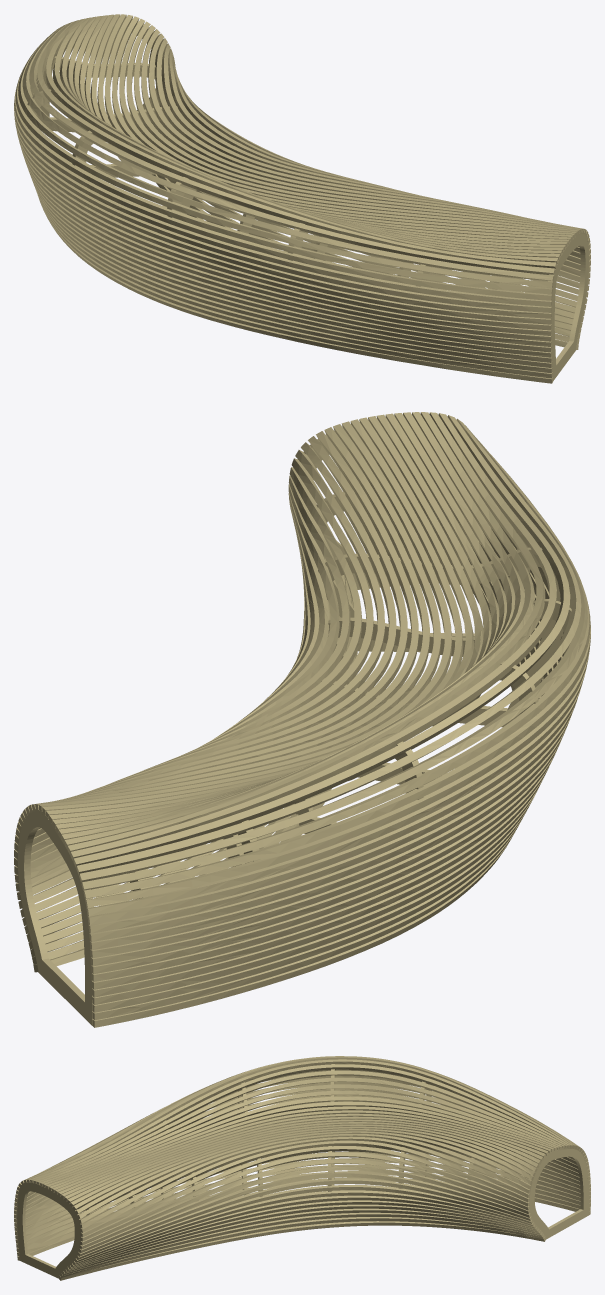
The model's file is lath-bench-parts.glb.
3 views of the same model, one above another, from view 1: azimuth 30°, elevation 25°; view 2: azimuth 150°, elevation 25°; view 3: azimuth 270°, elevation 25° (orthographic). The views are drawn at different scales.
Parts seen in each view (by area): view 1: slat_39, slat_40, slat_38, slat_42, slat_43, slat_41, slat_44, slat_45, slat_37, slat_46, slat_47, slat_48 (+36 smaller); view 2: slat_38, slat_37, slat_39, slat_40, slat_36, slat_41, slat_42, slat_43, slat_44, slat_25, slat_24, rib_08 (+37 smaller); view 3: slat_35, slat_36, slat_34, slat_16, slat_15, slat_33, slat_14, slat_17, slat_11, slat_32, slat_12, slat_13 (+43 smaller).
Boxes of the visible parts, bbox=[...] form: slat_39: bbox=[22, 26, 555, 274]; slat_40: bbox=[18, 31, 554, 281]; slat_38: bbox=[29, 23, 556, 268]; slat_42: bbox=[14, 86, 552, 294]; slat_43: bbox=[14, 96, 552, 300]; slat_41: bbox=[15, 63, 553, 287]; slat_44: bbox=[14, 115, 551, 306]; slat_45: bbox=[15, 124, 551, 312]; slat_37: bbox=[37, 21, 558, 264]; slat_46: bbox=[17, 134, 551, 318]; slat_47: bbox=[19, 142, 551, 324]; slat_48: bbox=[21, 77, 551, 330]; slat_38: bbox=[73, 415, 570, 868]; slat_37: bbox=[70, 413, 556, 861]; slat_39: bbox=[76, 418, 581, 875]; slat_40: bbox=[79, 425, 587, 882]; slat_36: bbox=[67, 412, 545, 855]; slat_41: bbox=[81, 455, 590, 890]; slat_42: bbox=[83, 625, 590, 898]; slat_43: bbox=[85, 649, 589, 907]; slat_44: bbox=[86, 666, 586, 916]; slat_25: bbox=[31, 424, 440, 811]; slat_24: bbox=[28, 427, 429, 812]; rib_08: bbox=[17, 809, 94, 1025]; slat_35: bbox=[33, 1064, 570, 1183]; slat_36: bbox=[30, 1059, 572, 1182]; slat_34: bbox=[36, 1070, 567, 1184]; slat_16: bbox=[80, 1140, 530, 1237]; slat_15: bbox=[80, 1146, 529, 1241]; slat_33: bbox=[39, 1077, 564, 1186]; slat_14: bbox=[79, 1152, 529, 1245]; slat_17: bbox=[80, 1136, 530, 1232]; slat_11: bbox=[77, 1172, 531, 1256]; slat_32: bbox=[42, 1084, 562, 1187]; slat_12: bbox=[78, 1166, 530, 1253]; slat_13: bbox=[79, 1159, 529, 1249].
Bounding box in the file's own units: 1.52 × 0.6663 × 2.97.
